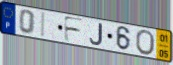0: (18, 8, 36, 36)
6: (115, 26, 132, 52)
F: (63, 15, 85, 43)
I: (40, 11, 47, 39)
J: (89, 23, 104, 47)
O: (135, 29, 156, 56)
